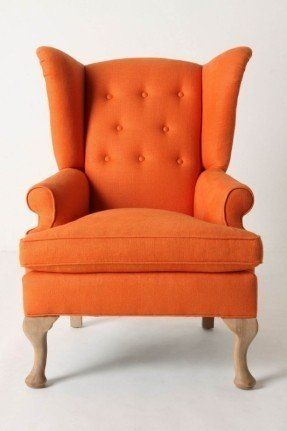chairs: (16, 43, 266, 394)
